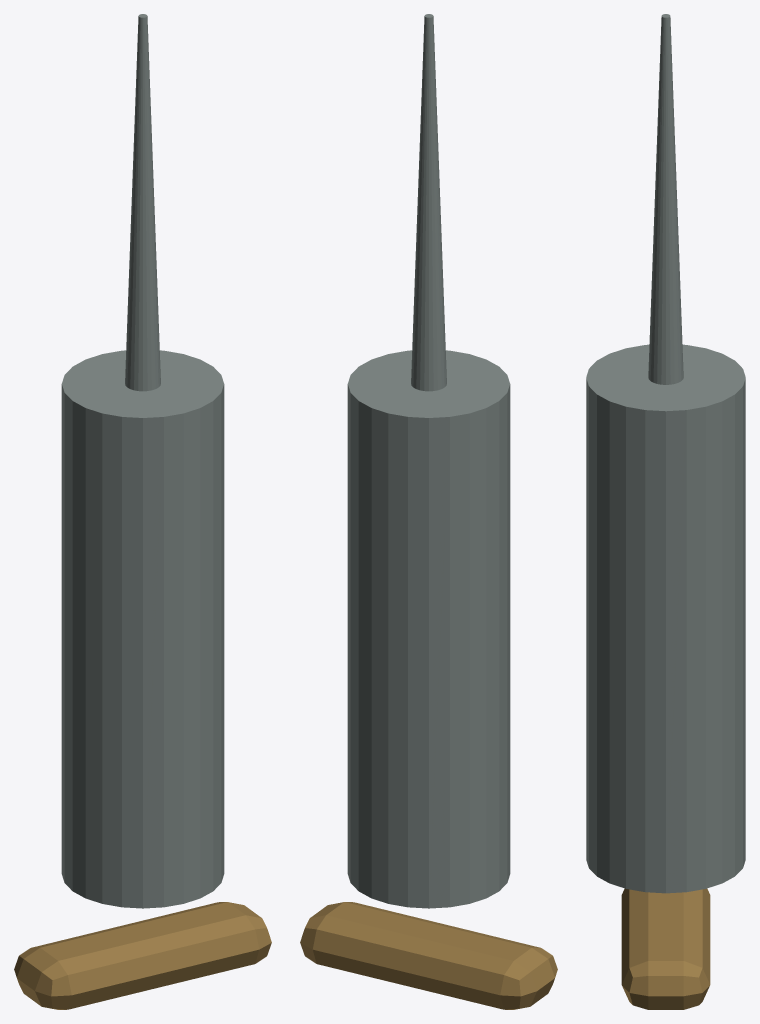
The model's file is Syringe.fbx.
The picture shows the model from 3 angles, left to right: view 1: azimuth 30°, elevation 25°; view 2: azimuth 150°, elevation 25°; view 3: azimuth 270°, elevation 25°; orthographic projection.
Parts seen in each view (by area): view 1: syringe barrel, plunger, needle; view 2: syringe barrel, plunger, needle; view 3: syringe barrel, plunger, needle.
Part boxes in pixels (box(x1,y1,x2,y2)): syringe barrel: box(61, 350, 224, 908); plunger: box(14, 902, 271, 1009); needle: box(125, 14, 160, 391); syringe barrel: box(347, 350, 510, 908); plunger: box(300, 902, 557, 1009); needle: box(411, 14, 446, 391); syringe barrel: box(586, 344, 745, 893); plunger: box(621, 888, 710, 1009); needle: box(648, 14, 683, 384).
Bounding box in the file's own units: 6 × 23.6 × 3.6.
